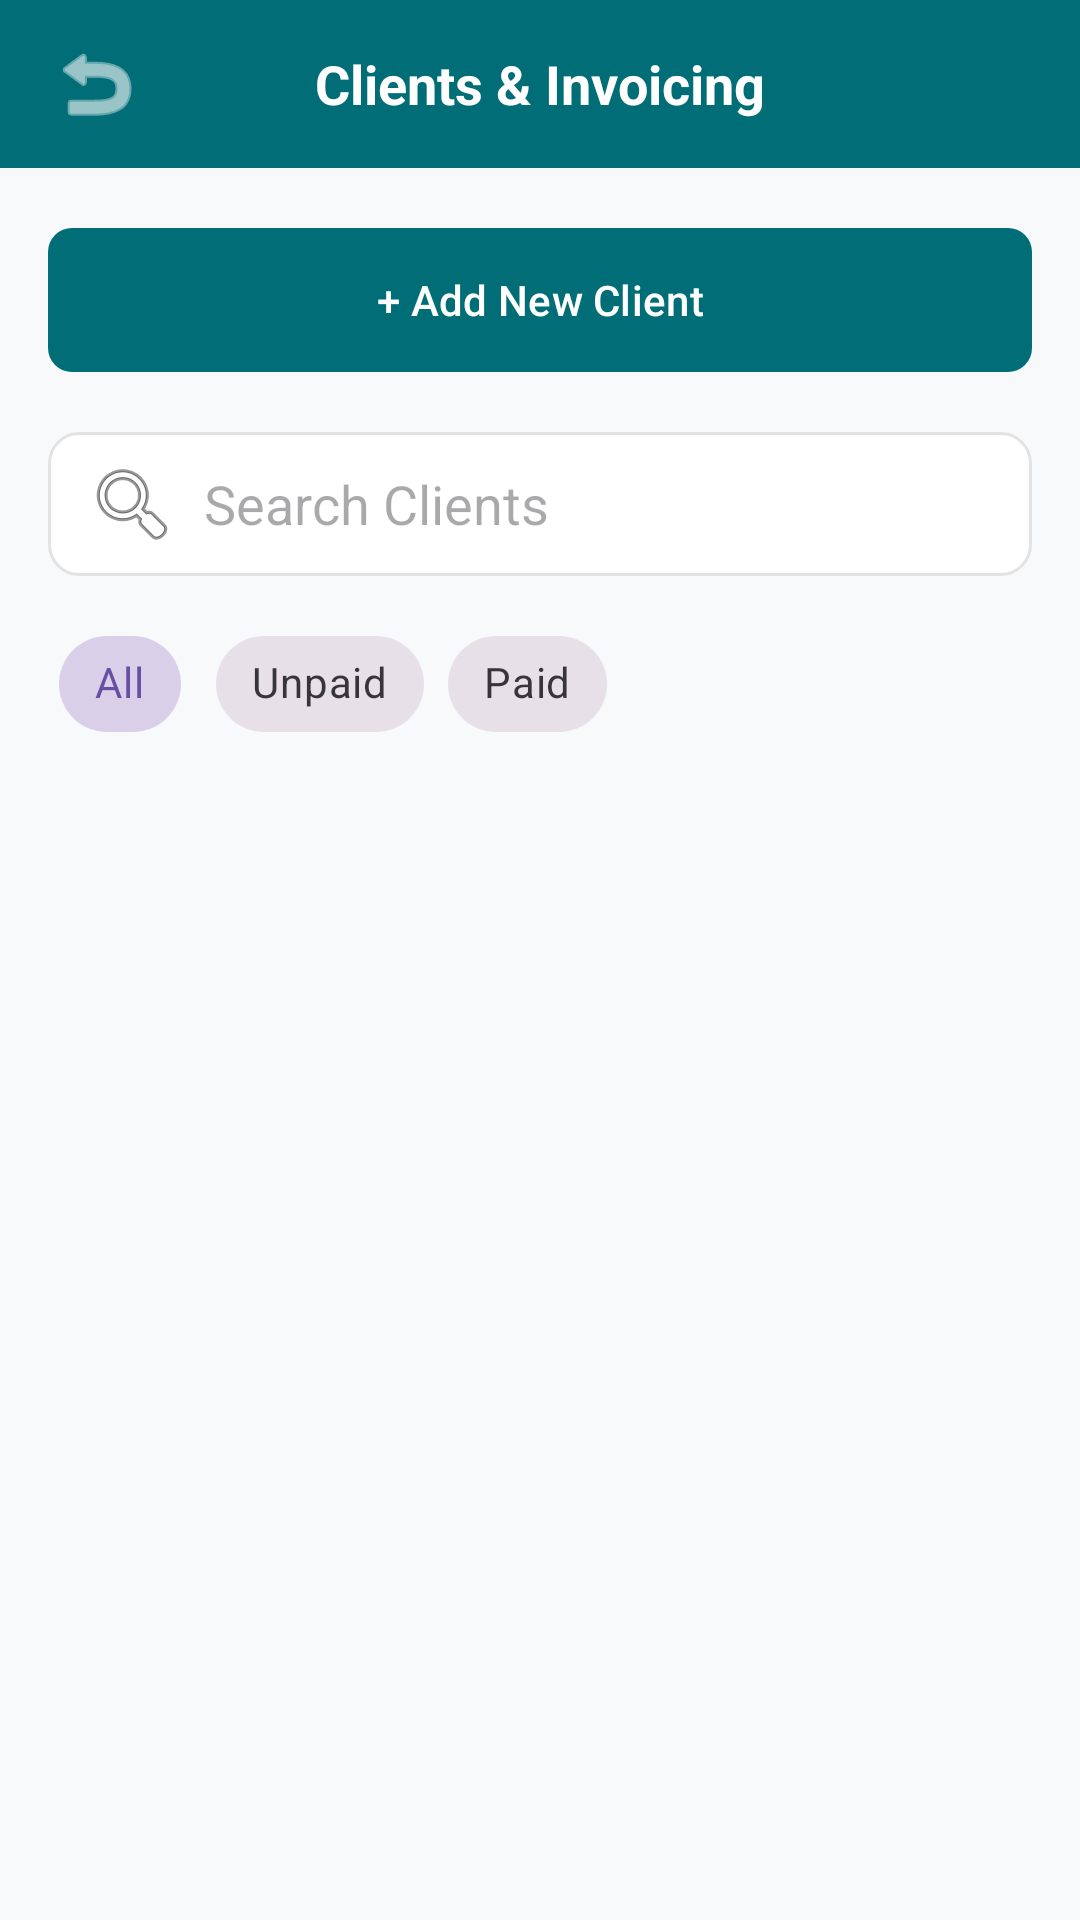

Icon click points for this 1080w x 1920h phone screenshot, format [x,y]:
Back: [97,84]
